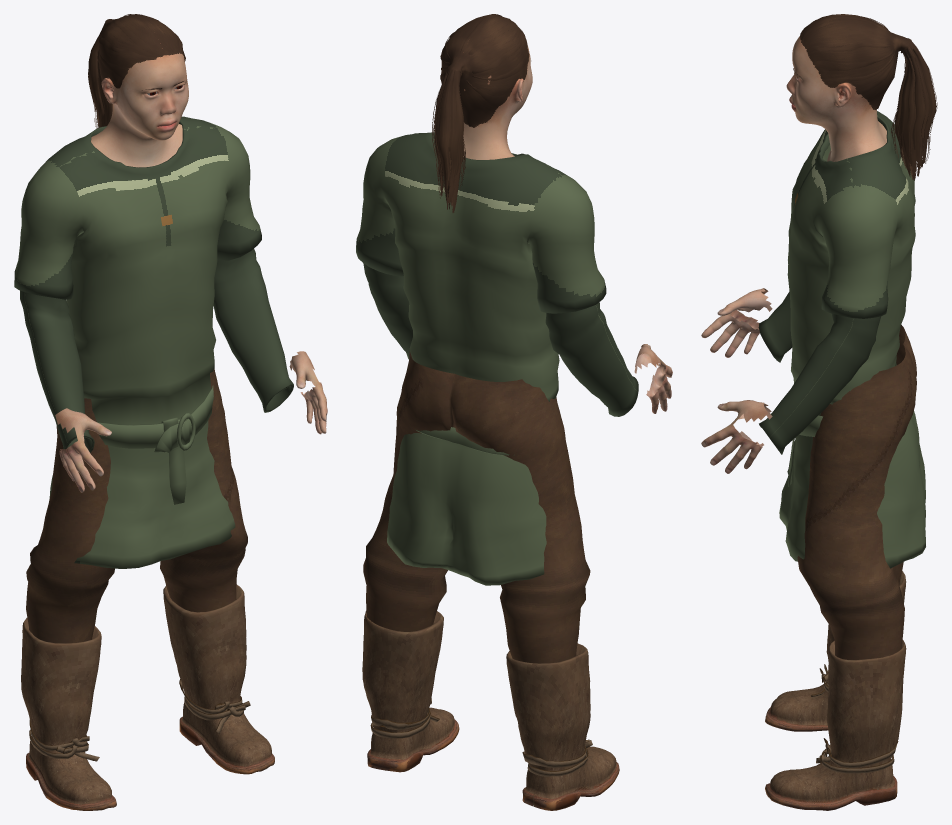
Rendered from orin-travel-coat.glb.
3 renders of one model, left to right at view 1: azimuth 30°, elevation 25°; view 2: azimuth 150°, elevation 25°; view 3: azimuth 270°, elevation 25°, orthographic.
Visible parts, largest first — view 1: orin-travel-coat runtime mesh; view 2: orin-travel-coat runtime mesh; view 3: orin-travel-coat runtime mesh.
Part boxes in pixels (x1,y1,x2,y2): orin-travel-coat runtime mesh: [14, 14, 327, 810]; orin-travel-coat runtime mesh: [356, 14, 672, 810]; orin-travel-coat runtime mesh: [701, 14, 937, 810].
Bounding box in the file's own units: 0.6627 × 1.85 × 0.5325.
Materials: 7 (7 with a texture image).
